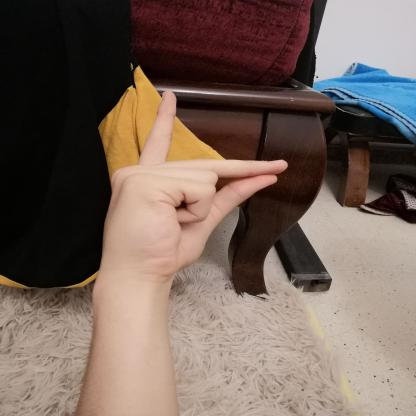TAA: (78, 82, 300, 299)
